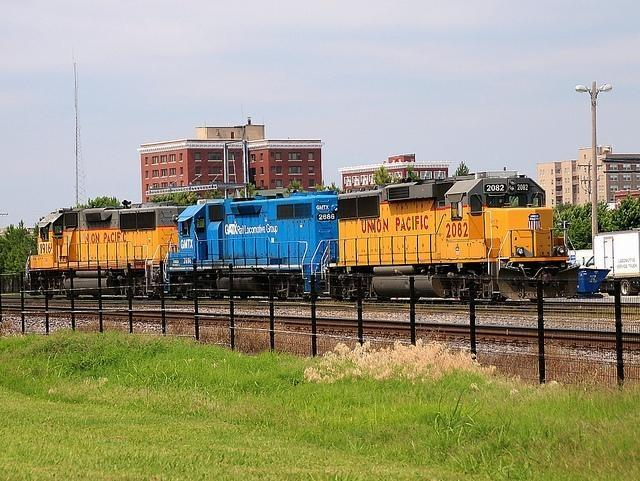truck: (582, 231, 640, 296)
